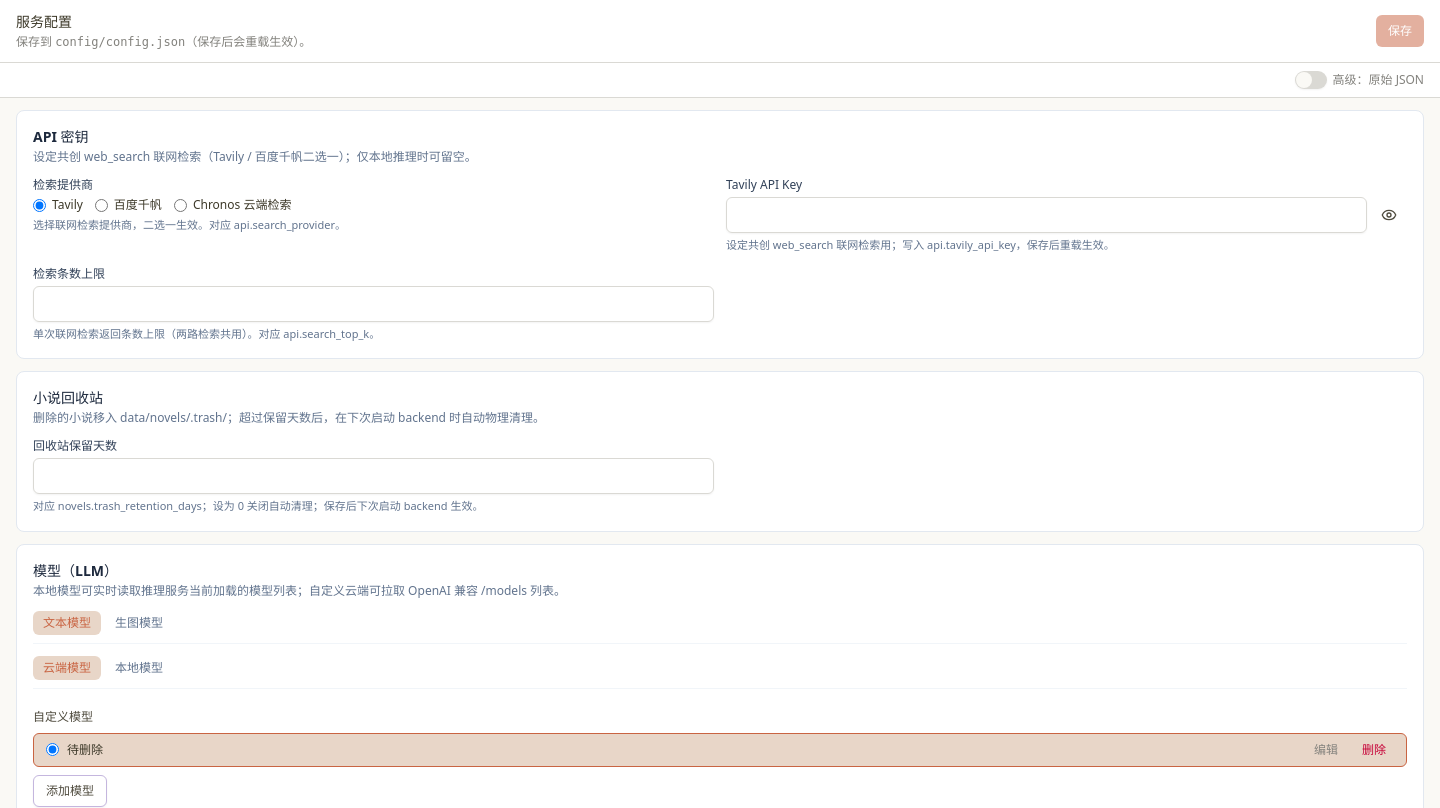
Scenario: ServiceConfigPage 自定义模型表格 › 删除一条自定义模型后从列表消失
expect the text "待删除" is shown: met, box [67,742,103,758]
Click the button "删除" at (1374, 750), box [1354,742,1394,758]
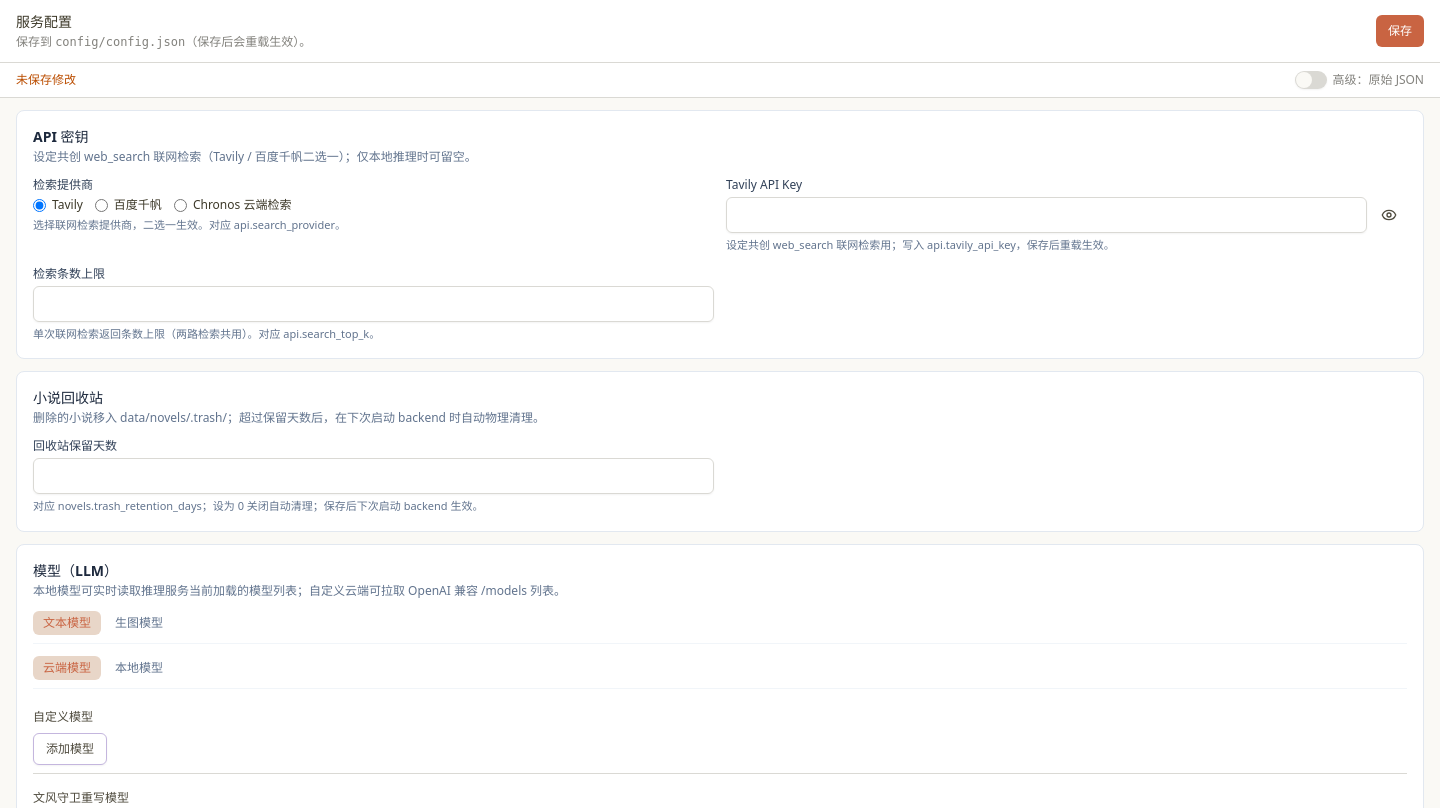
expect the text "待删除" is gone: met
